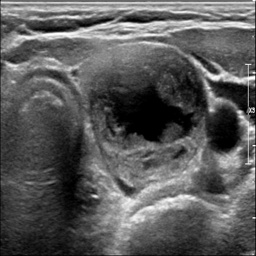mass: (86, 46, 206, 192)
